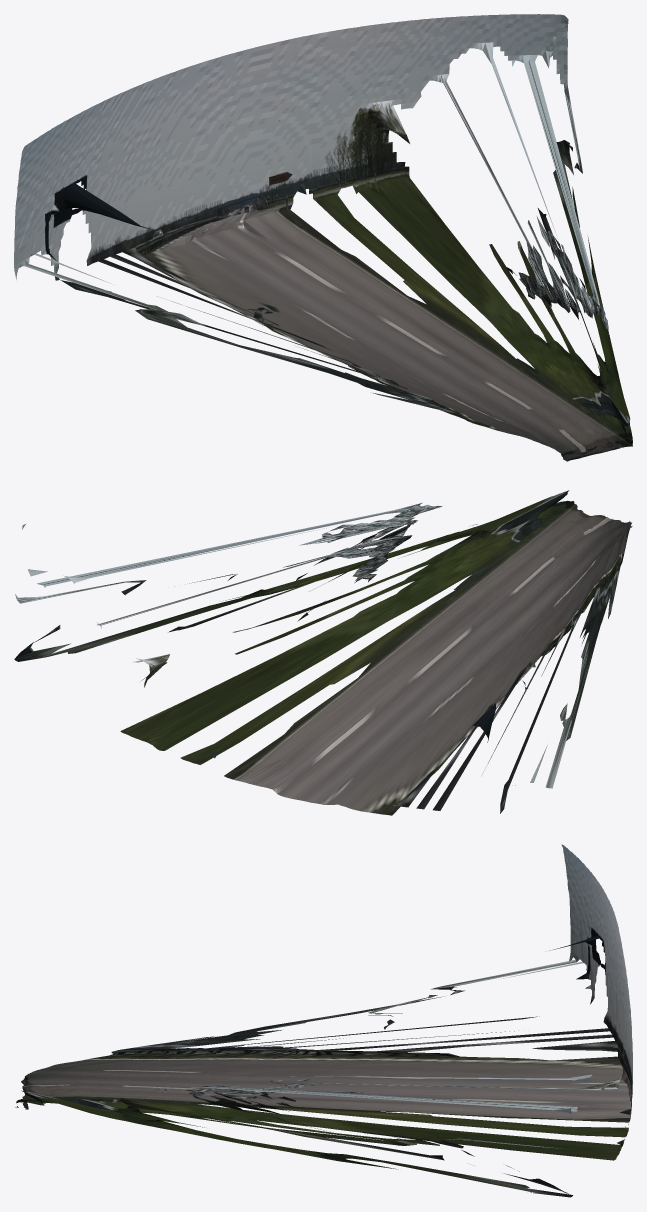
3 views of the same model, one above another, from view 1: azimuth 30°, elevation 25°; view 2: azimuth 150°, elevation 25°; view 3: azimuth 270°, elevation 25° (orthographic). The views are drawn at different scales.
Visible parts, largest first — view 1: defaultobject; view 2: defaultobject; view 3: defaultobject.
Part boxes in pixels (box(x1,y1,x2,y2)): defaultobject: box(14, 14, 632, 461); defaultobject: box(14, 490, 632, 815); defaultobject: box(15, 844, 632, 1197).
Bounding box in the file's own units: 41.03 × 12.88 × 44.79.
Materials: 1 (1 with a texture image).
